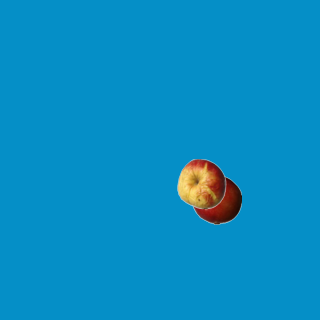Apple Braeburn: (191, 174, 241, 224)
Apple Red Yellow 1: (176, 158, 226, 208)
